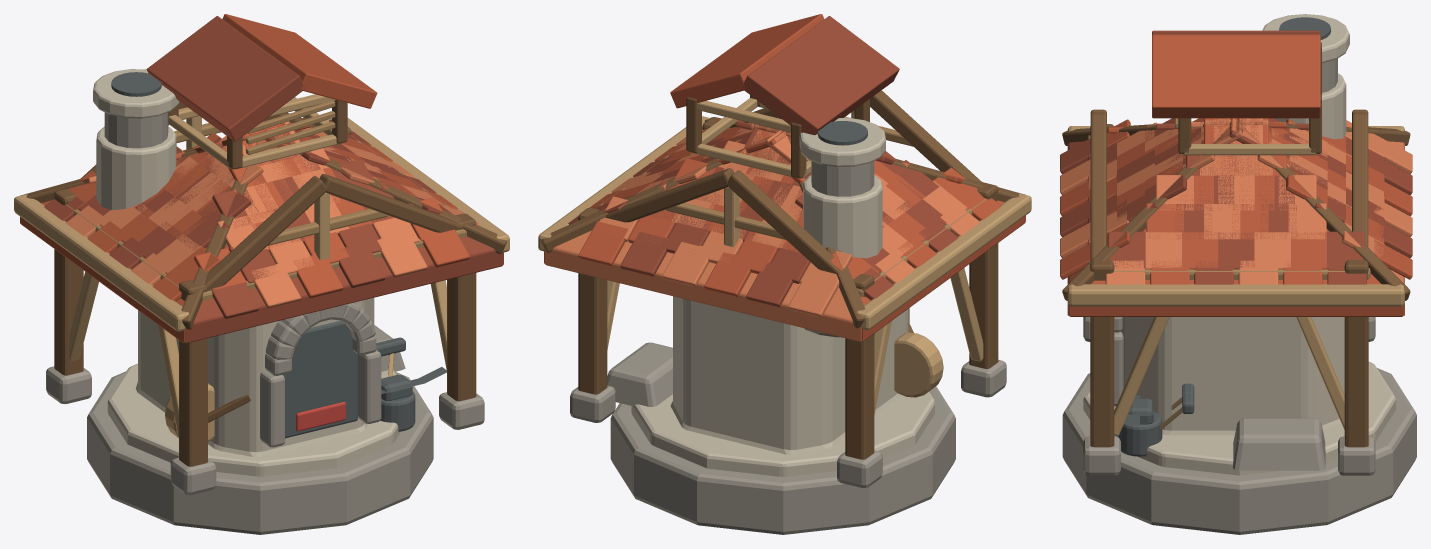
File: workshop.glb
3 views of the same model, side by side, from view 1: azimuth 30°, elevation 25°; view 2: azimuth 150°, elevation 25°; view 3: azimuth 270°, elevation 25° (orthographic). The views are drawn at different scales.
Parts seen in each view (by area): view 1: BlacksmithForgeHall_Geometry; view 2: BlacksmithForgeHall_Geometry; view 3: BlacksmithForgeHall_Geometry.
Boxes of the visible parts, x1,y1,x2,y2 form: BlacksmithForgeHall_Geometry: [14, 14, 509, 534]; BlacksmithForgeHall_Geometry: [538, 14, 1031, 534]; BlacksmithForgeHall_Geometry: [1060, 14, 1416, 534].
Size of the model in its own units: 2.29 by 2.76 by 2.08.
